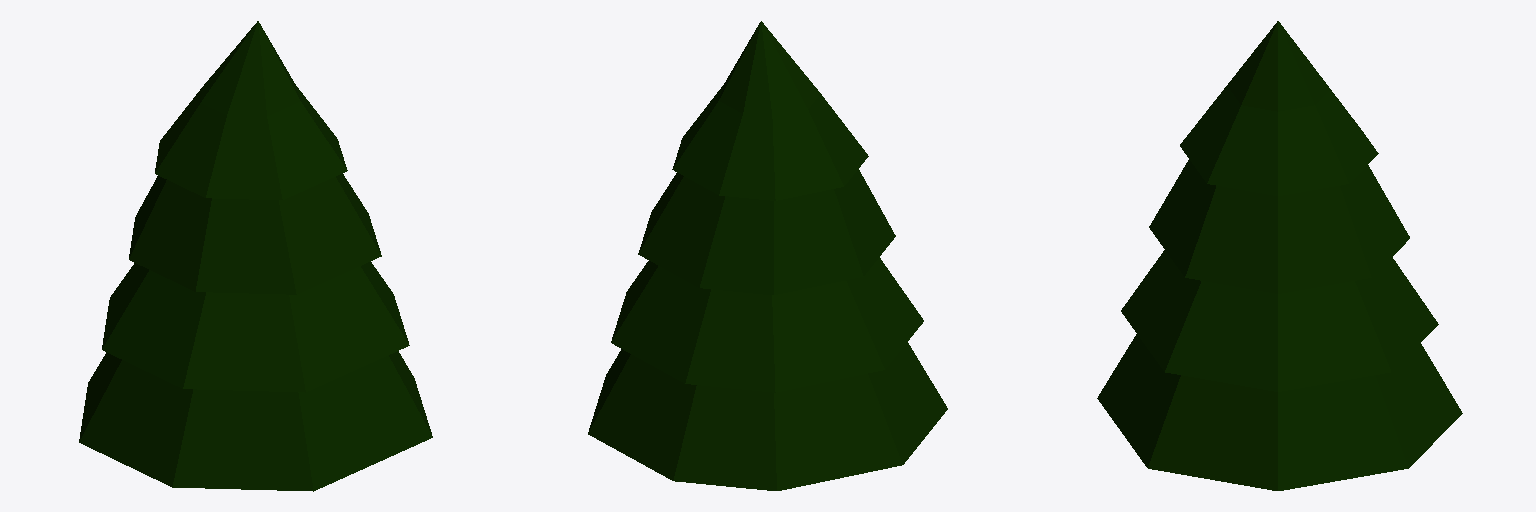
The robot description file, URDF, robot "conifer":
<?xml version="1.0" ?>

<robot name="conifer" xmlns:xacro="http://ros.org/wiki/xacro">
  <gazebo>
    <static>true</static>
  </gazebo>
  <link name="conifer_trunk">
    <!--MAIN_BODY-->
    <visual>
      <origin rpy="0 0 0" xyz="0 0 0"/>
      <geometry>
        <mesh filename="package://iai_outdoor_models/models/conifer/conifer_trunk.stl"/>
      </geometry>
      <material name="IAI_RESCUE/conifer_trunk">
       <color rgba="0.31 0.15 0.033 1.0"/>
     </material>
    </visual>
    <collision>
      <origin rpy="0 0 0" xyz="0 0 0"/>
      <geometry>
        <mesh filename="package://iai_outdoor_models/models/conifer/conifer_trunk.stl"/>
      </geometry>
    </collision>
    <inertial>
      <mass value=".1"/>
      <origin xyz="0 0 0"/>
      <inertia ixx="0.001" ixy="0.0" ixz="0.0" iyy="0.001" iyz="0.0" izz="0.001"/>
    </inertial>
  </link>
  <link name="conifer_branches">
    <!--MAIN_BODY-->
    <visual>
      <origin rpy="0 0 0" xyz="0 0 0"/>
      <geometry>
        <mesh filename="package://iai_outdoor_models/models/conifer/conifer_branches.stl"/>
      </geometry>
      <material name="IAI_RESCUE/conifer_branch">
       <color rgba="0.071 0.19 0.013 1.0"/>
     </material>
    </visual>
    <collision>
      <origin rpy="0 0 0" xyz="0 0 0"/>
      <geometry>
        <mesh filename="package://iai_outdoor_models/models/conifer/conifer_branches.stl"/>
      </geometry>
    </collision>
    <inertial>
      <mass value=".1"/>
      <origin xyz="0 0 0"/>
      <inertia ixx="0.001" ixy="0.0" ixz="0.0" iyy="0.001" iyz="0.0" izz="0.001"/>
    </inertial>
  </link>
  
  
   <joint name="branch_joint" type="fixed">
    <origin xyz="0 0 0" rpy="0 0 0"/>
    <parent link="conifer_trunk"/>
    <child link="conifer_branches"/>
  </joint>
</robot>
 

--- Render facts (derived) ---
3 views of the same robot in one strip: view 1: azimuth 30°, elevation 25°; view 2: azimuth 150°, elevation 25°; view 3: azimuth 270°, elevation 25° (orthographic).
Robot: conifer — 2 links, 1 joints (1 fixed); root link conifer_trunk; default pose: all joints at 0.
Visible links, largest first — view 1: conifer_branches; view 2: conifer_branches; view 3: conifer_branches.
Link boxes in pixels (x1=…): conifer_branches: x1=79, y1=21, x2=432, y2=491; conifer_branches: x1=588, y1=21, x2=947, y2=490; conifer_branches: x1=1097, y1=21, x2=1462, y2=490.
Size in the robot's own frame: 7 by 7 by 8.92 metres.
2 mesh visuals loaded from 2 distinct referenced files (2 binary STL).